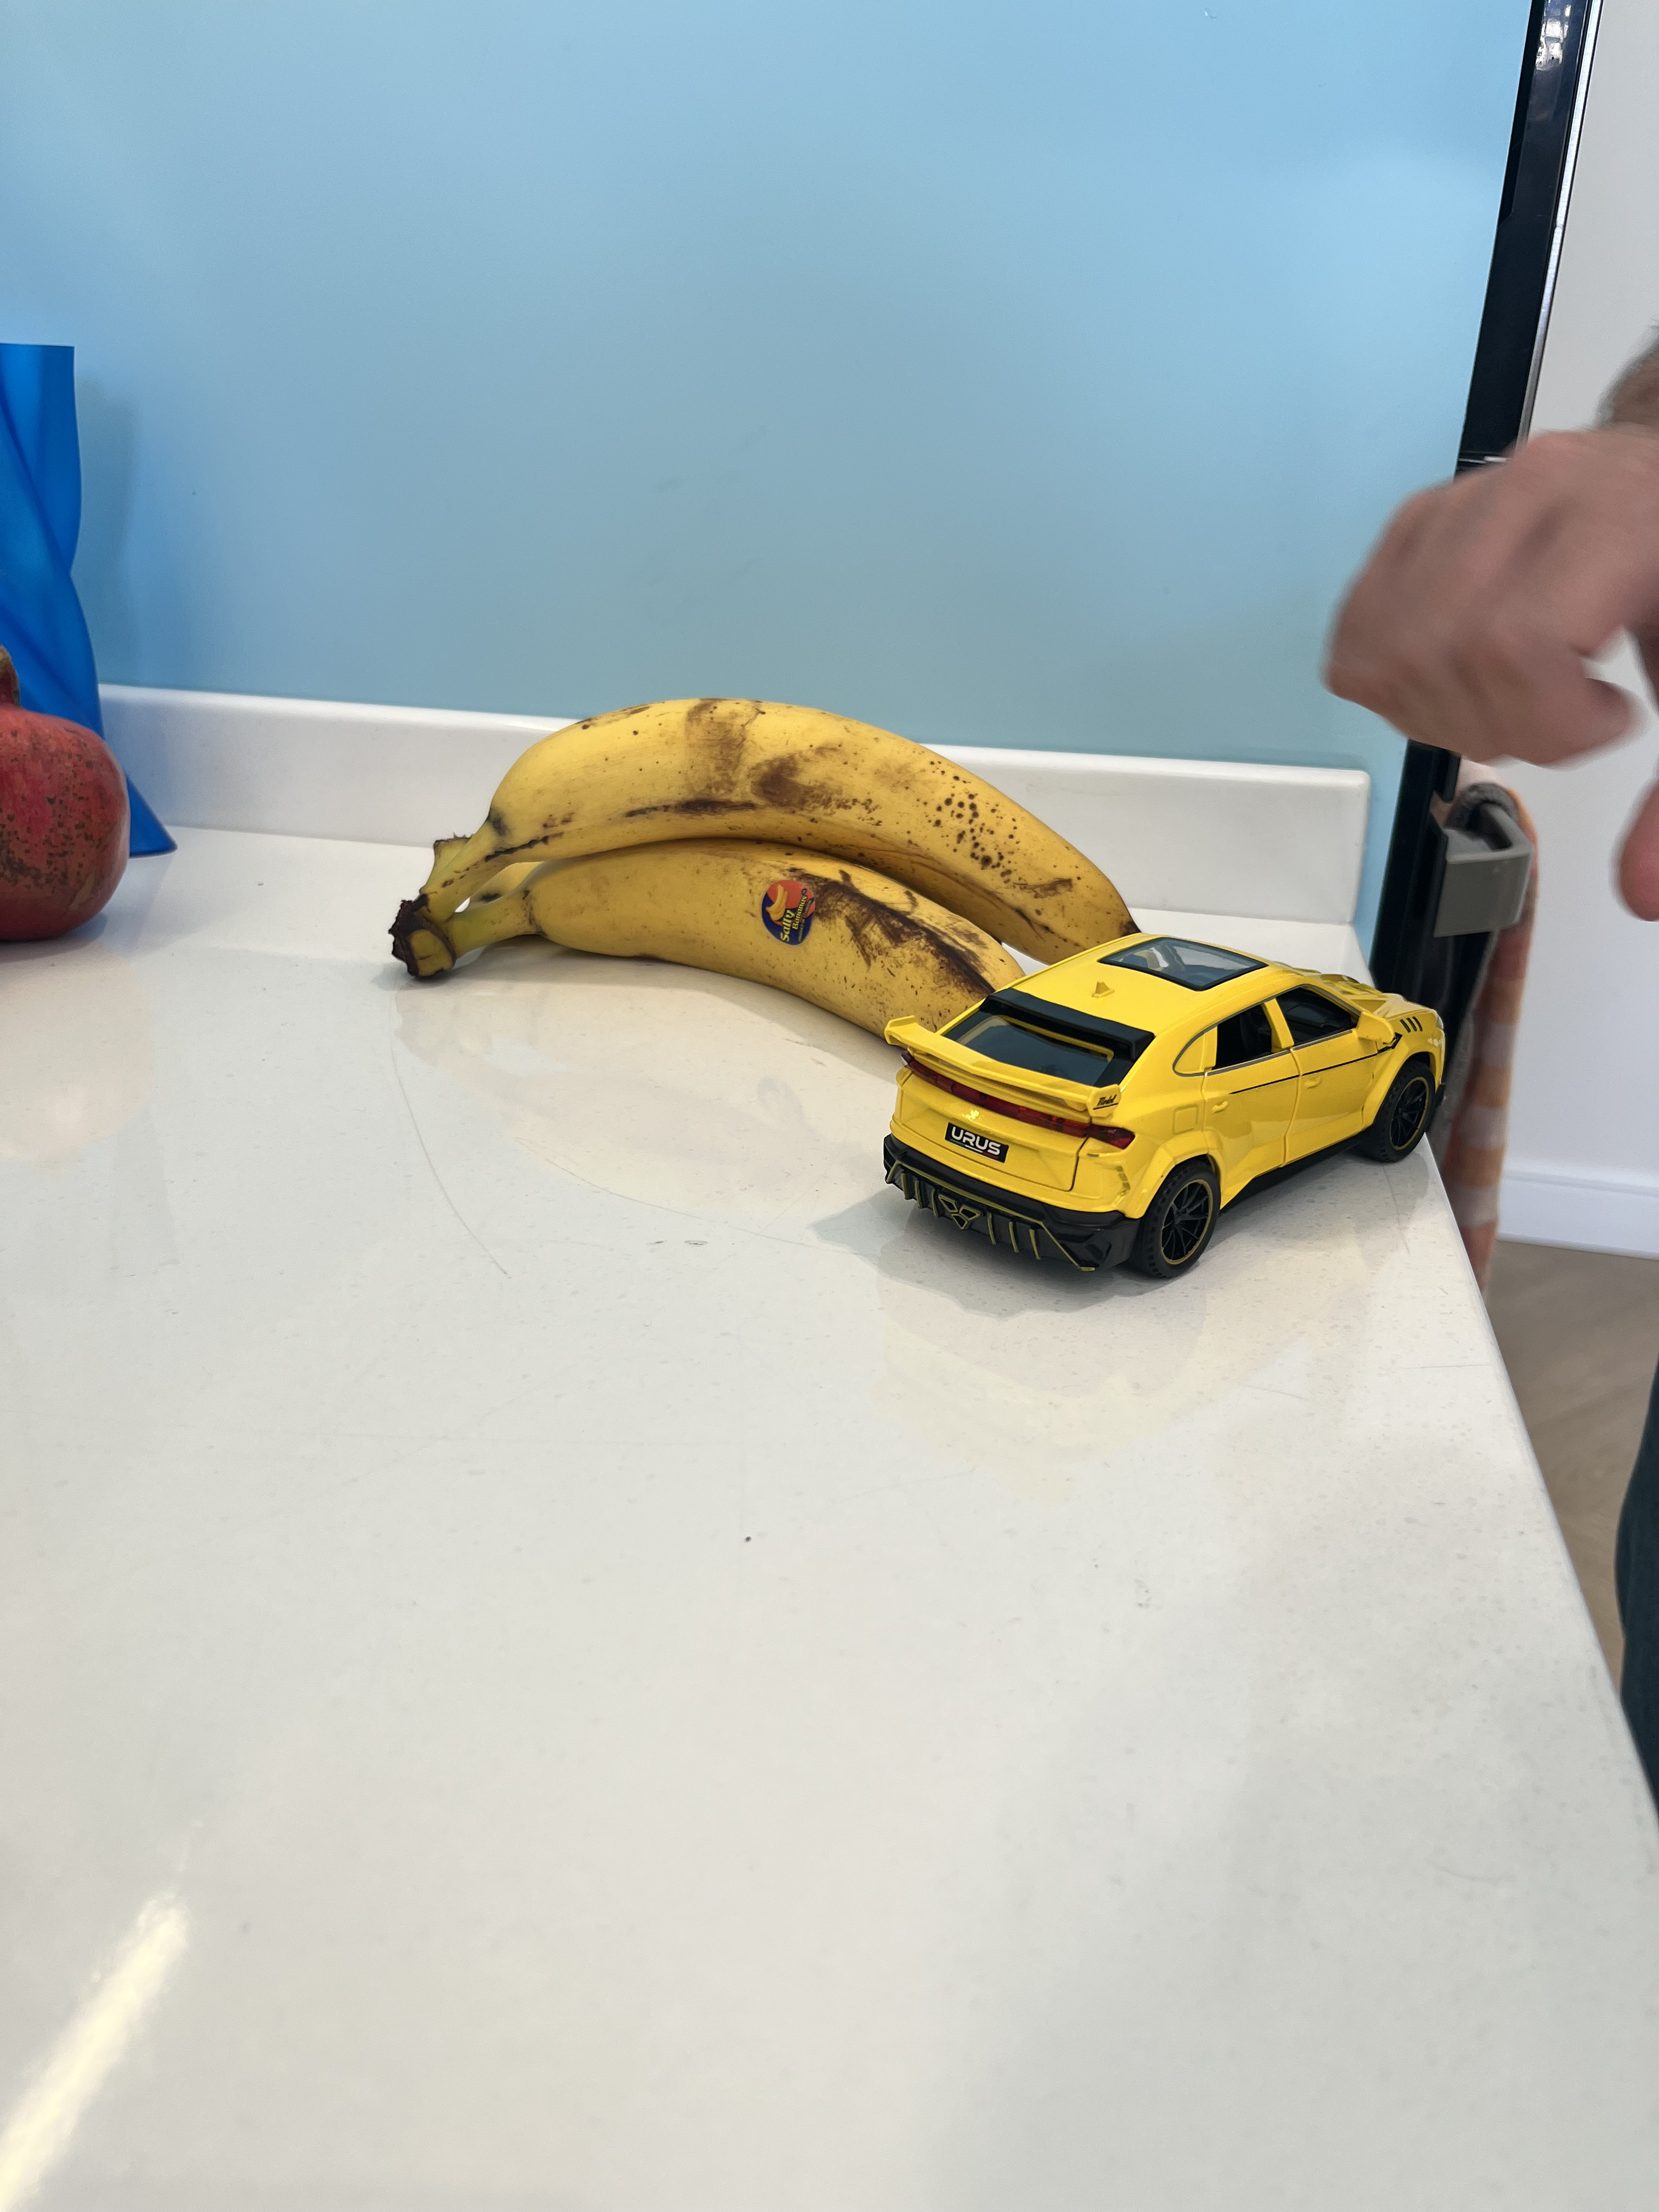lambo: (875, 904, 1448, 1268)
